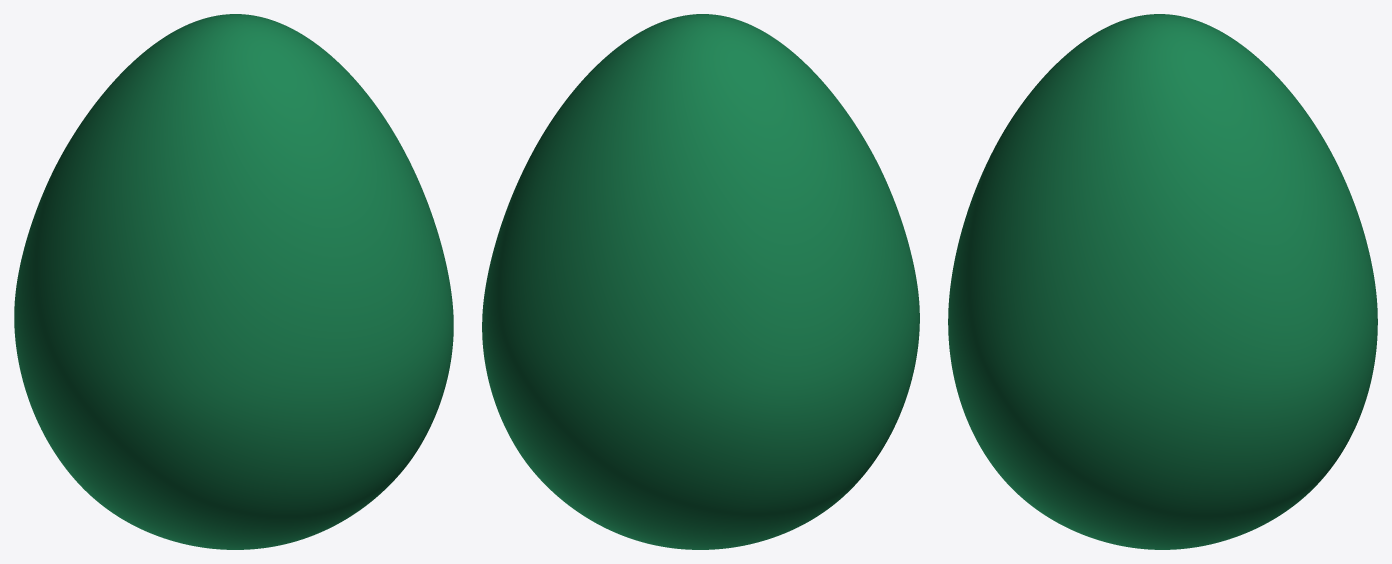
Rendered from Planet_Oval.fbx.
The picture shows the model from 3 angles, left to right: view 1: azimuth 30°, elevation 25°; view 2: azimuth 150°, elevation 25°; view 3: azimuth 270°, elevation 25°; orthographic projection.
Visible parts, largest first — view 1: Planet2; view 2: Planet2; view 3: Planet2.
Part boxes in pixels (x1,y1,x2,y2): Planet2: (14,14,453,549); Planet2: (482,14,919,549); Planet2: (948,14,1377,549).
Bounding box in the file's own units: 825 × 825 × 1072.
